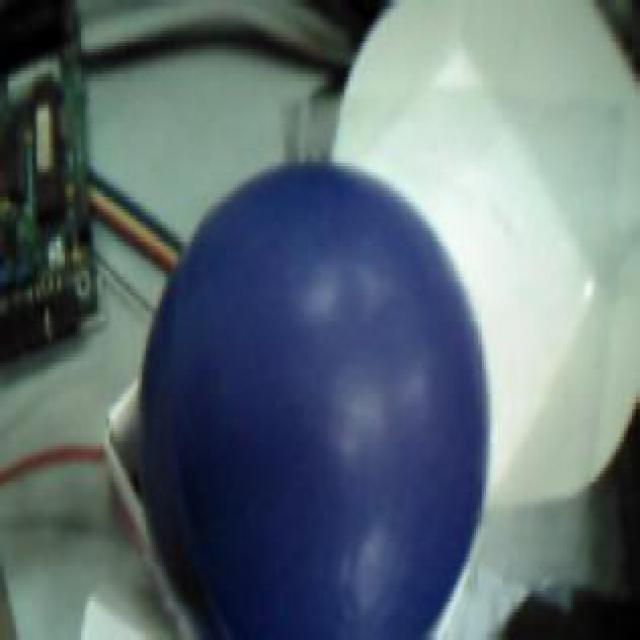BallPurple: (140, 159, 488, 640)
